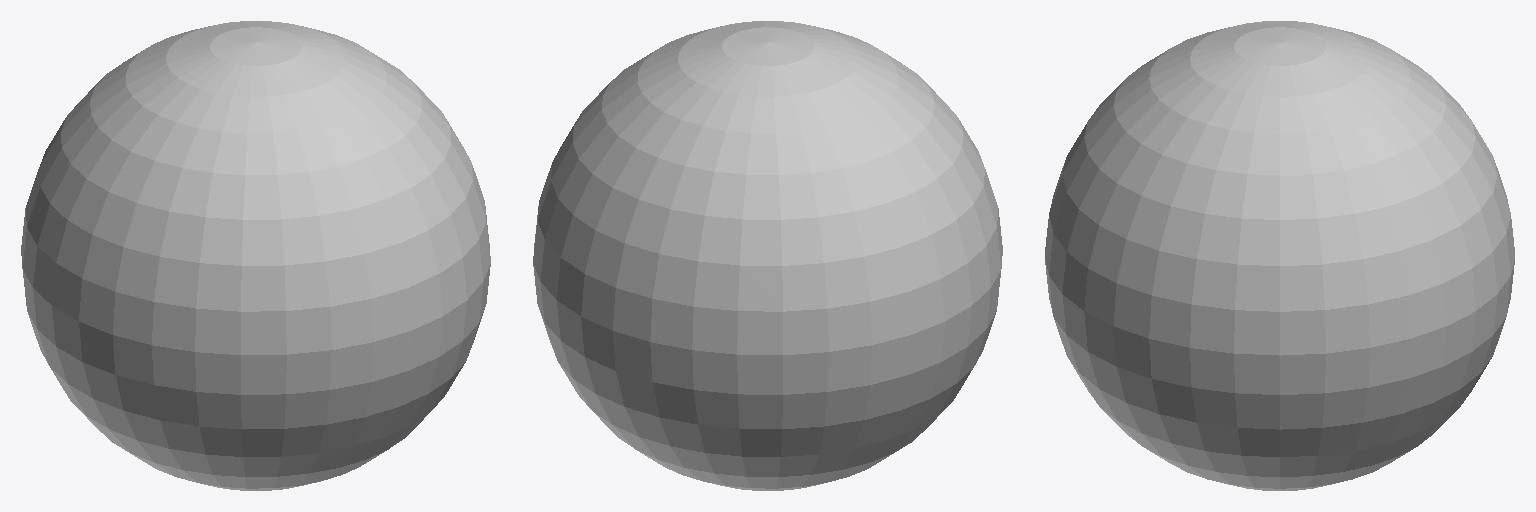
The model's file is Pellet.obj.
3 renders of one model, left to right at view 1: azimuth 30°, elevation 25°; view 2: azimuth 150°, elevation 25°; view 3: azimuth 270°, elevation 25°, orthographic.
Parts seen in each view (by area): view 1: Sphere; view 2: Sphere; view 3: Sphere.
Boxes of the visible parts, <box> form: Sphere: <box>21,21,490,490</box>; Sphere: <box>533,21,1002,490</box>; Sphere: <box>1045,21,1514,490</box>.
Size of the model in its own units: 0.0839 by 0.0839 by 0.0839.